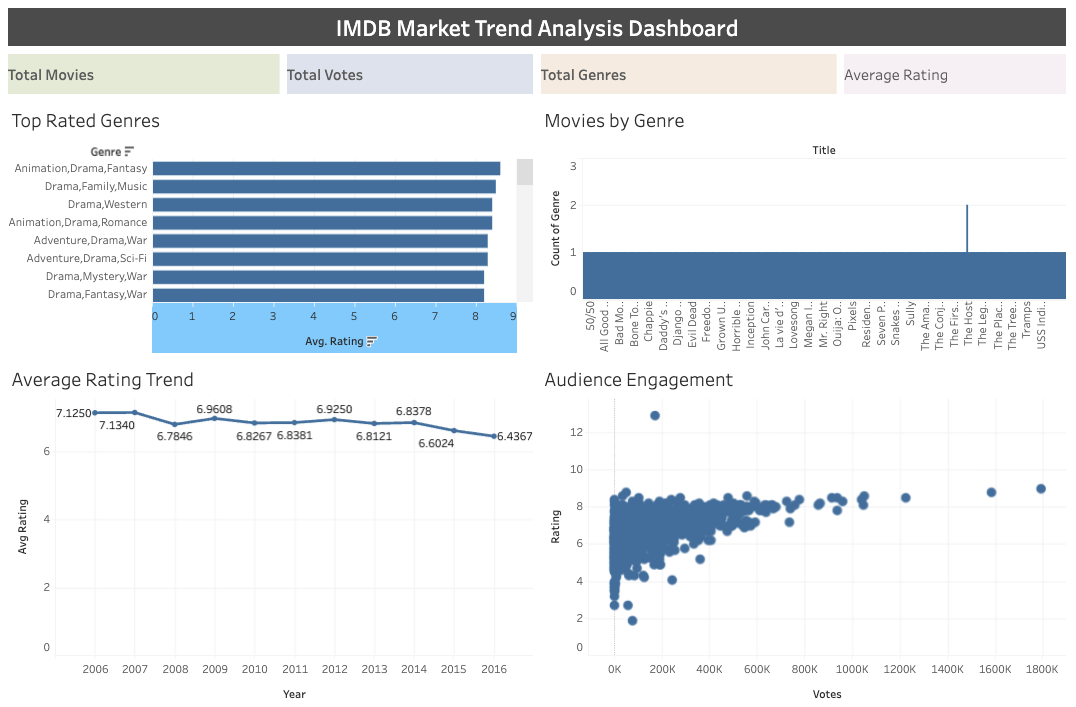

This screenshot's page, from the dashboard's own definition file:
{"tool":"tableau","page":{"name":"Dashboard 2","canvas":[1200,800],"ordinal":1},"visuals":[{"type":"text","box":[8,8,1184,51]},{"type":"text","box":[8,59,310,53]},{"type":"text","box":[318,59,282,53]},{"type":"text","box":[600,59,337,53]},{"type":"text","box":[937,59,255,53]},{"type":"worksheet","title":"Top Rated Genres","mark":"Automatic","rows":["genre"],"cols":["rating"],"box":[8,112,592,288]},{"type":"worksheet","title":"Movies by Genre","mark":"Automatic","rows":["genre"],"cols":["title"],"box":[600,112,592,288]},{"type":"worksheet","title":"Average Rating Trend","mark":"Automatic","rows":["avg_rating"],"cols":["year"],"box":[8,400,592,392]},{"type":"worksheet","title":"Audience Engagement","mark":"Circle","rows":["rating"],"cols":["votes"],"box":[600,400,592,392]}]}

Visuals, with their boxes in screenshot pixels (x1, y1, x2, y2), scaled from the page's 1200x800 canvas onto the 1076x707 screenshot:
text: left=7, top=7, right=1069, bottom=52
text: left=7, top=52, right=285, bottom=99
text: left=285, top=52, right=538, bottom=99
text: left=538, top=52, right=840, bottom=99
text: left=840, top=52, right=1069, bottom=99
"Top Rated Genres" worksheet: left=7, top=99, right=538, bottom=354
"Movies by Genre" worksheet: left=538, top=99, right=1069, bottom=354
"Average Rating Trend" worksheet: left=7, top=354, right=538, bottom=700
"Audience Engagement" worksheet (Circle marks): left=538, top=354, right=1069, bottom=700
